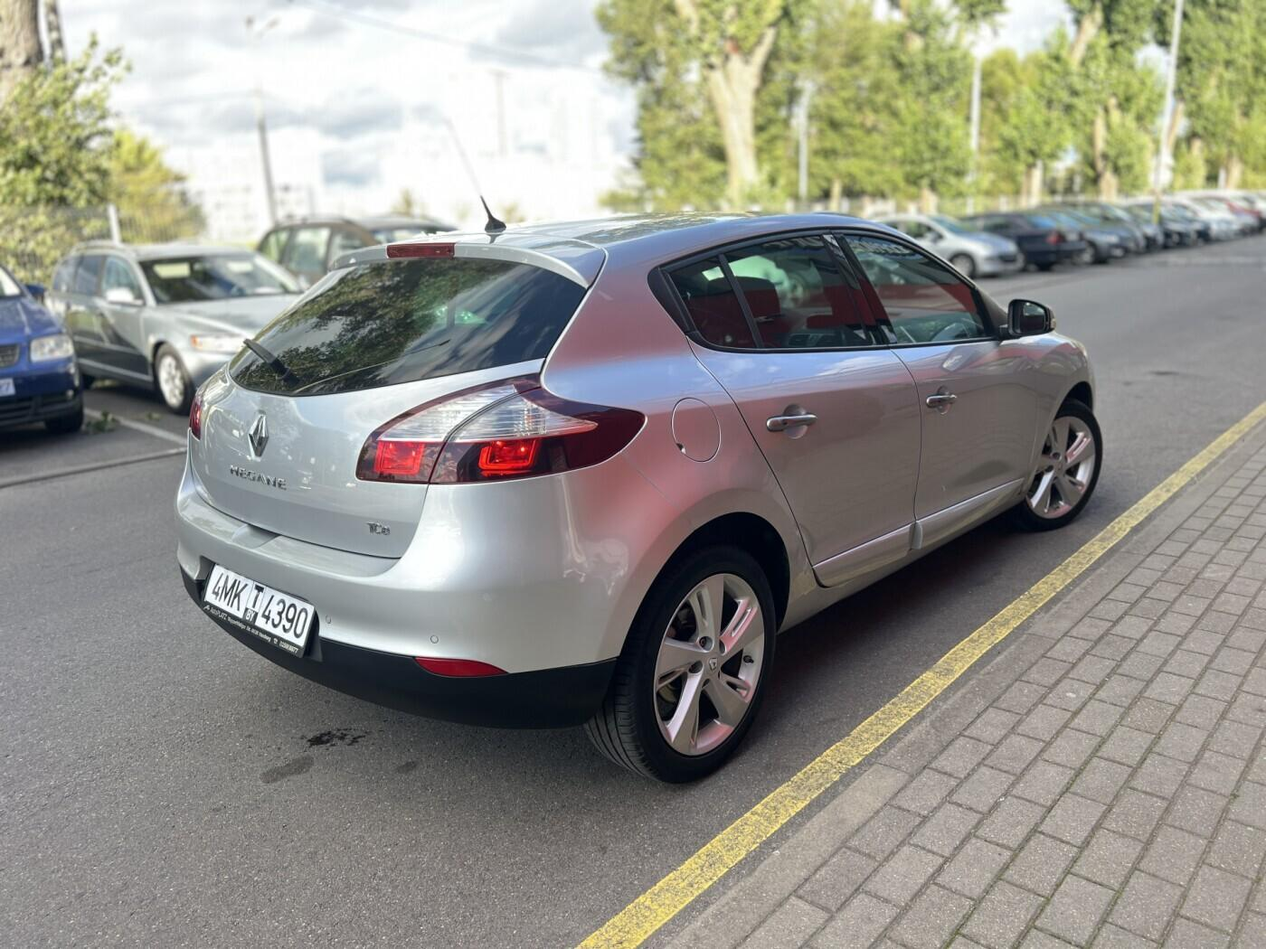Megane_2014-2016: (180, 213, 1107, 759)
